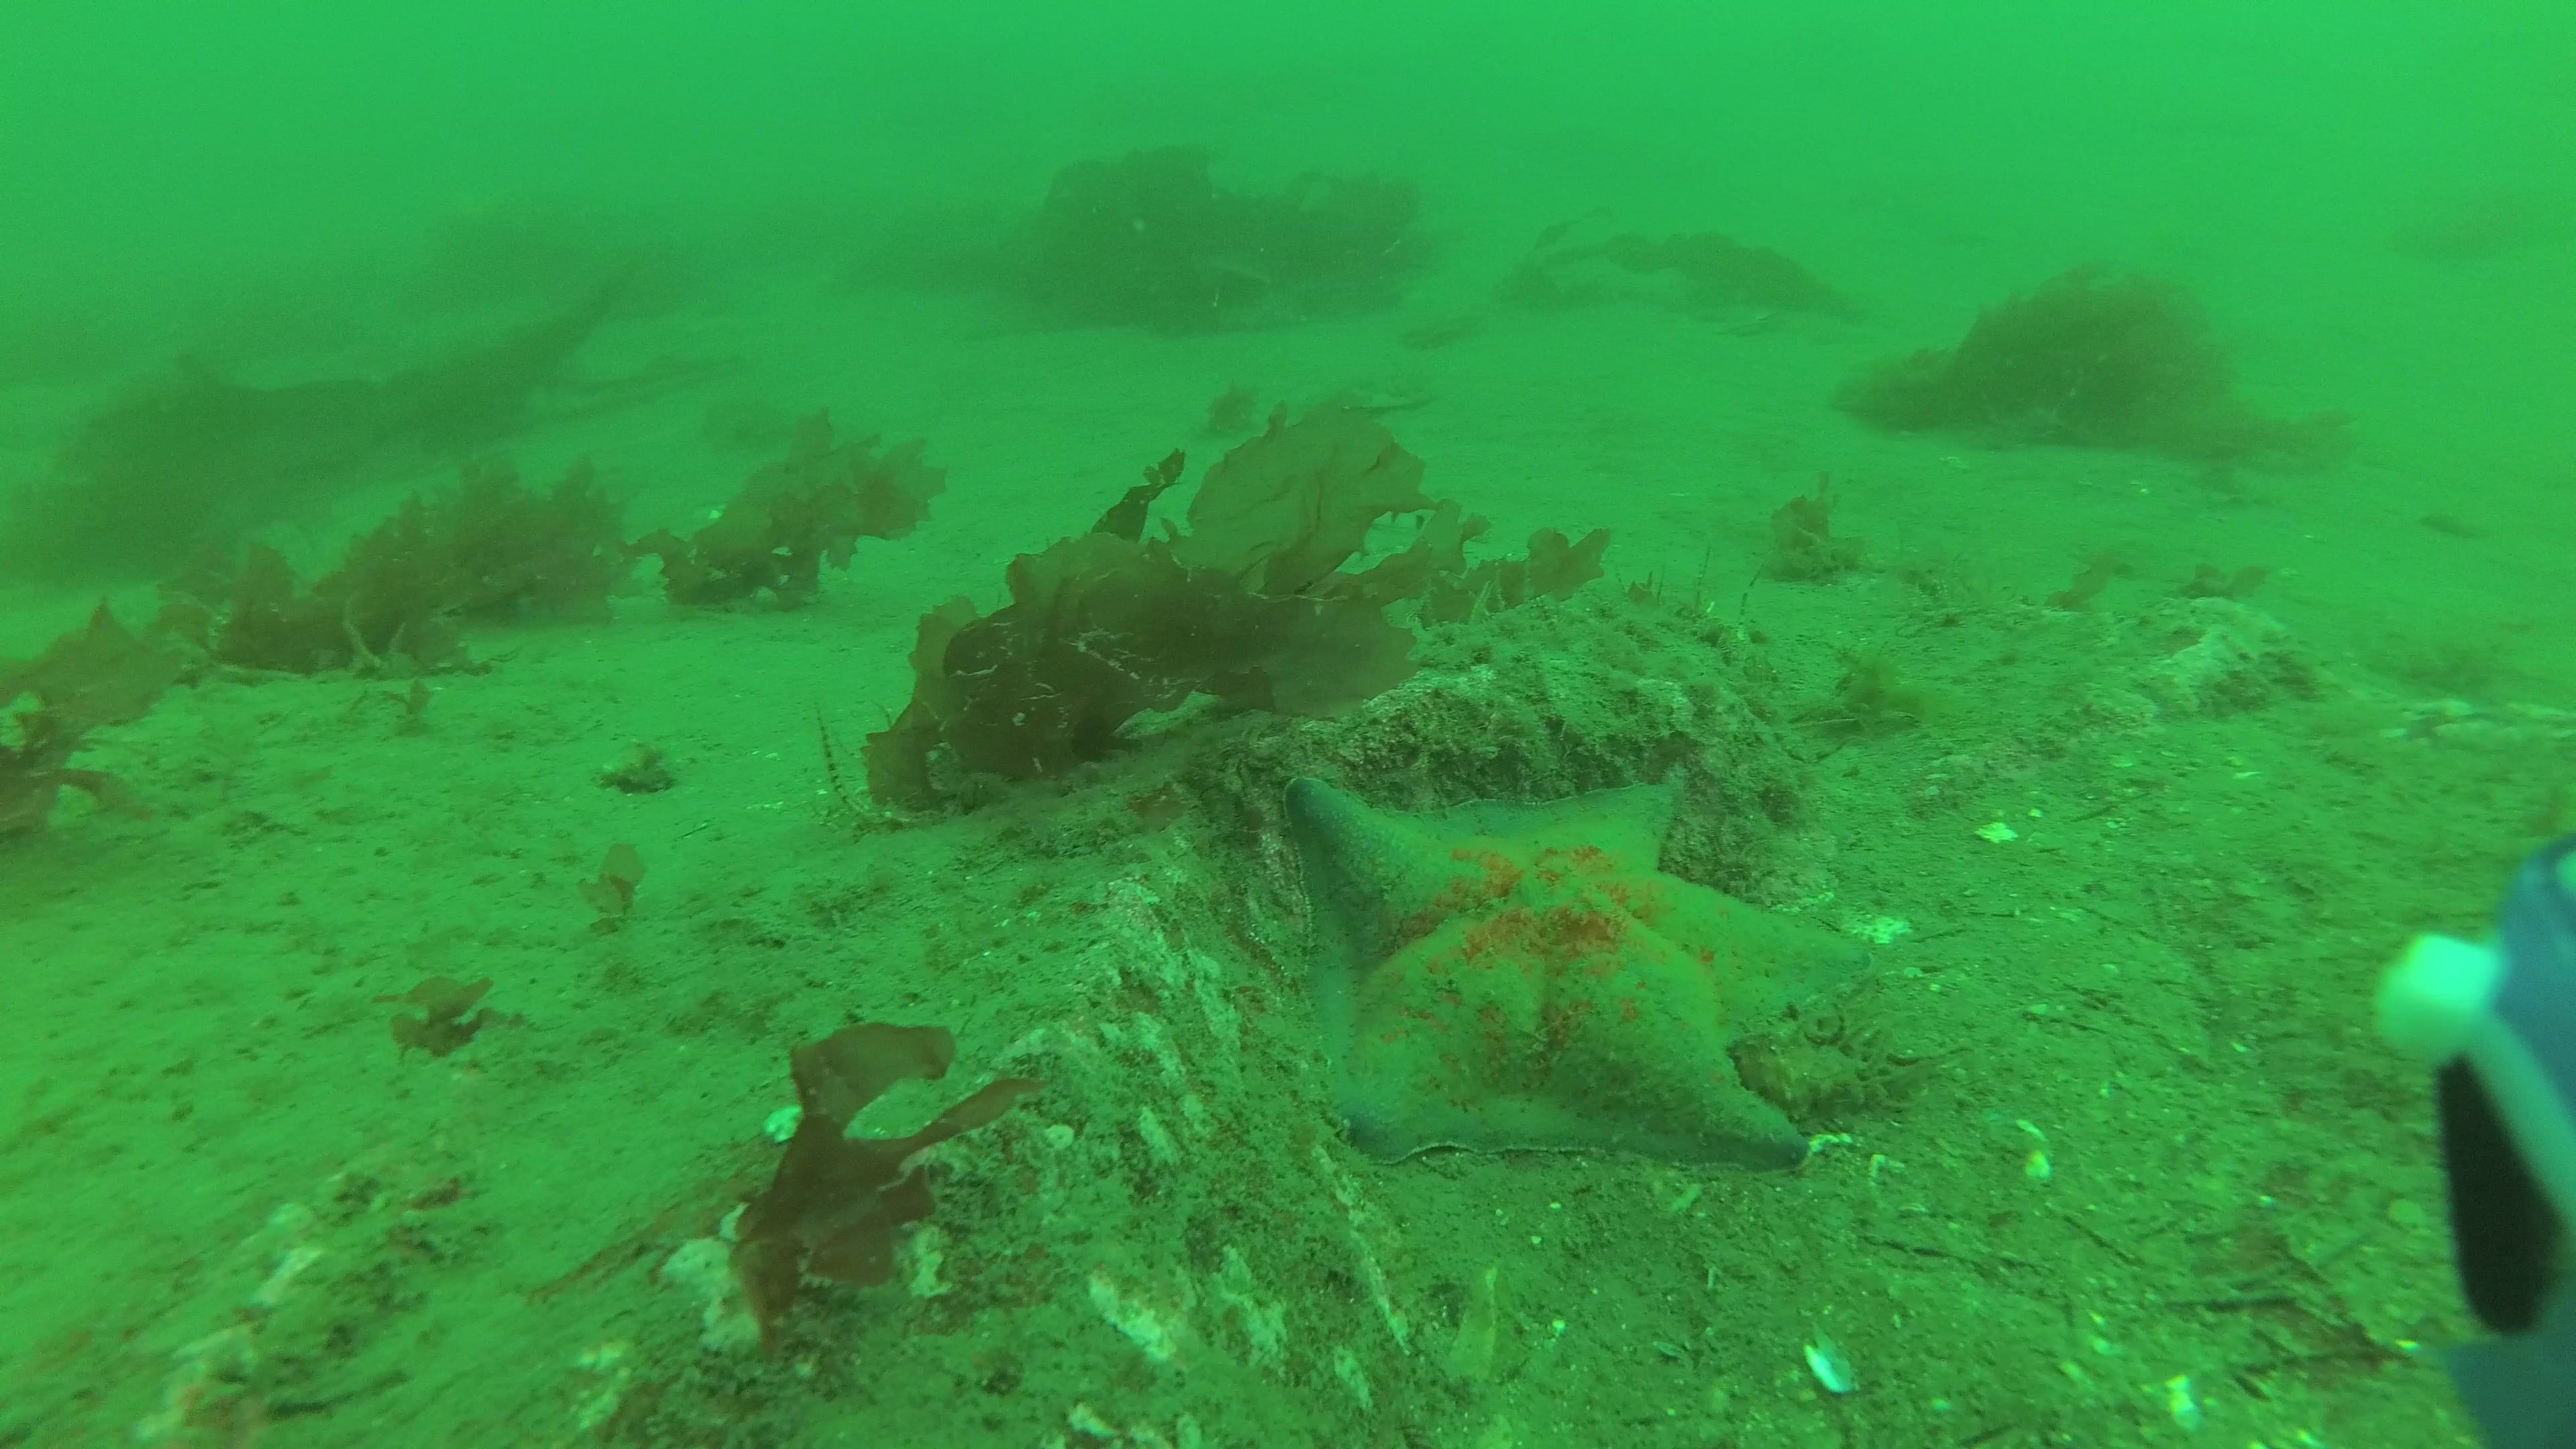starfish: (1281, 775, 1875, 1162)
